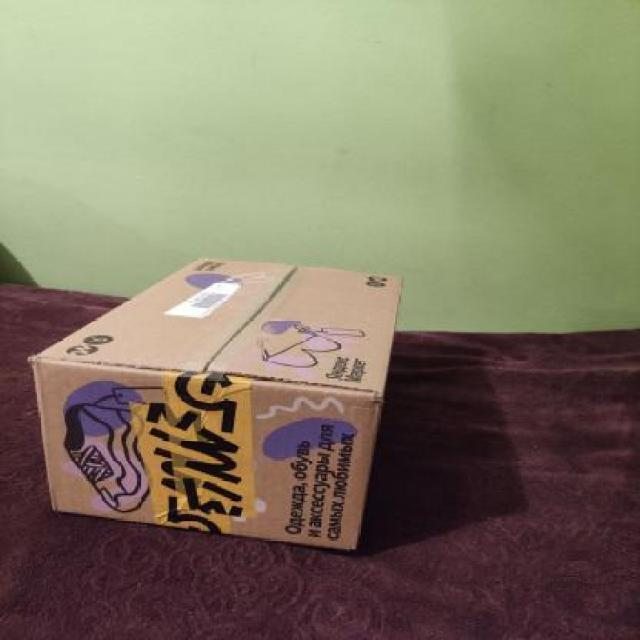box: (23, 248, 405, 556)
